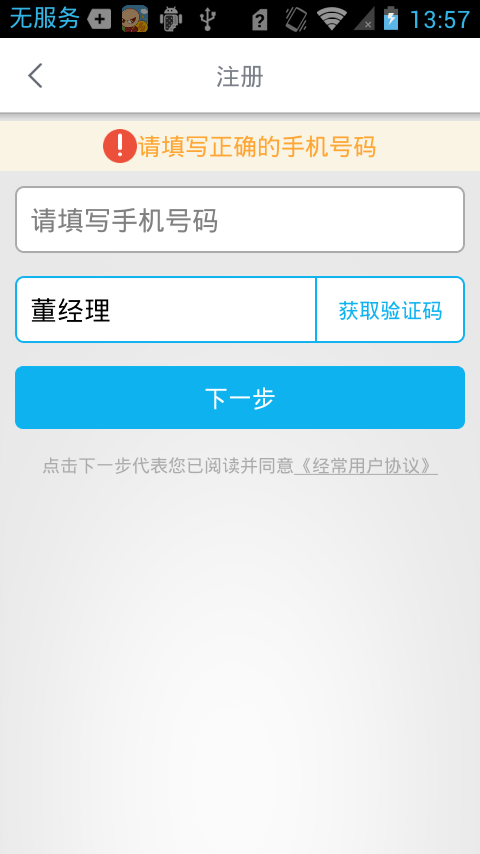button: (11, 360, 470, 434), (306, 270, 474, 350)
textview: (7, 183, 468, 260), (8, 268, 324, 349), (38, 446, 439, 486)
